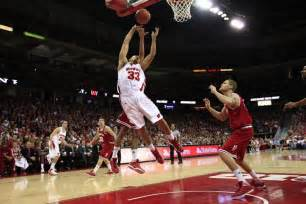basketball: (136, 10, 149, 23)
